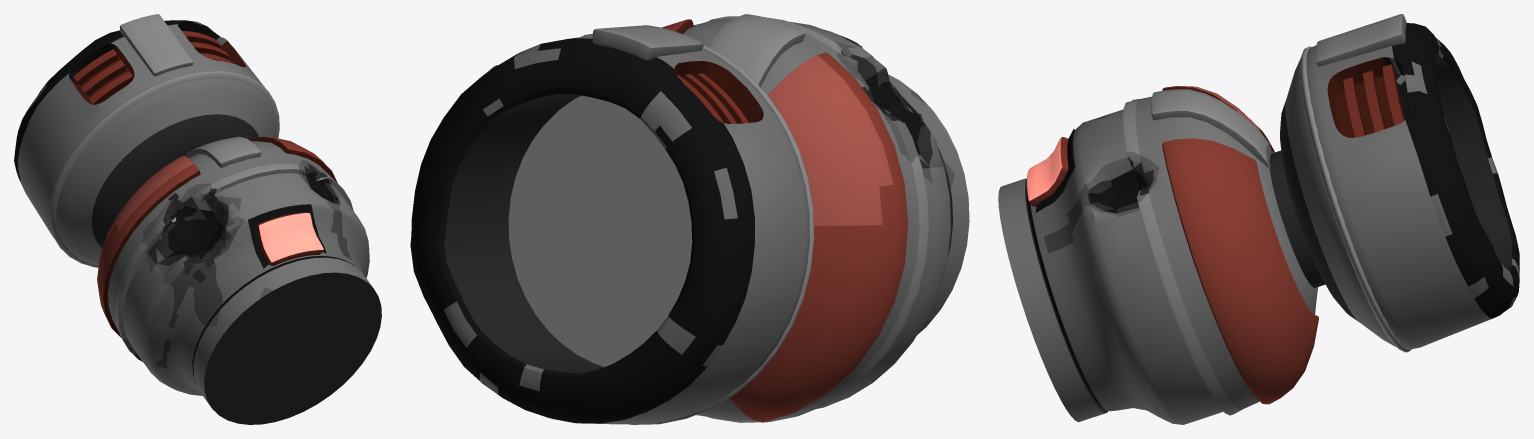
The model's file is red_tower_dmg_vents.glb.
3 renders of one model, left to right at view 1: azimuth 30°, elevation 25°; view 2: azimuth 150°, elevation 25°; view 3: azimuth 270°, elevation 25°, orthographic. The views are drawn at different scales.
Parts seen in each view (by area): view 1: red_tower_dmg_vents; view 2: red_tower_dmg_vents; view 3: red_tower_dmg_vents.
Part boxes in pixels (x1=…): red_tower_dmg_vents: x1=14, y1=14, x2=381, y2=424; red_tower_dmg_vents: x1=410, y1=14, x2=969, y2=424; red_tower_dmg_vents: x1=998, y1=14, x2=1519, y2=424.
Bounding box in the file's own units: 18.82 × 23.87 × 29.37.
